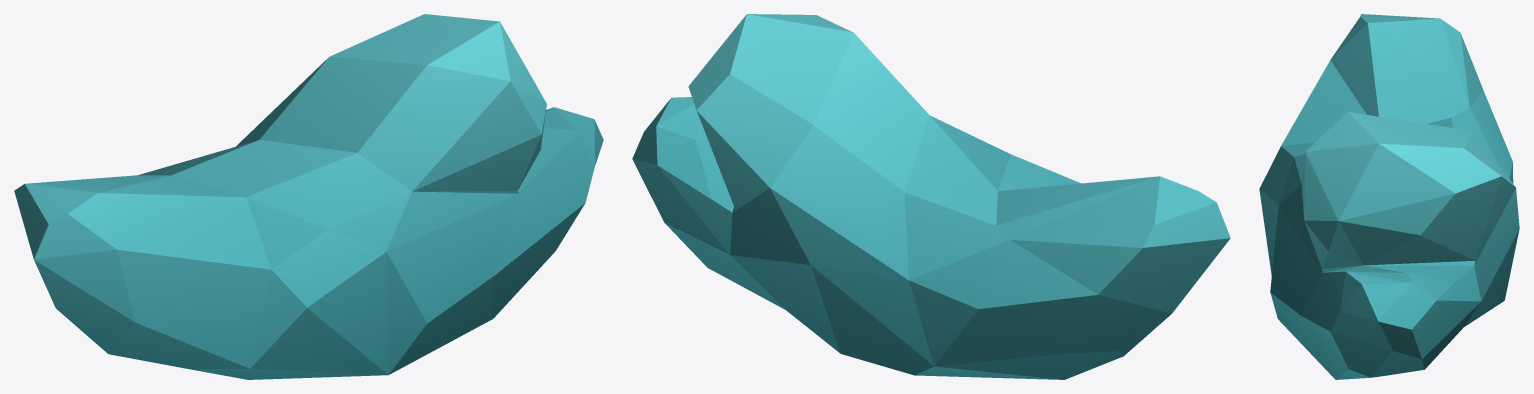
The model's file is bush_crescent_blue.fbx.
The picture shows the model from 3 angles, left to right: view 1: azimuth 30°, elevation 25°; view 2: azimuth 150°, elevation 25°; view 3: azimuth 270°, elevation 25°; orthographic projection. The views are drawn at different scales.
Parts seen in each view (by area): view 1: bush_crescent_blue; view 2: bush_crescent_blue; view 3: bush_crescent_blue.
Boxes of the visible parts, bbox=[...] form: bush_crescent_blue: bbox=[14, 14, 603, 379]; bush_crescent_blue: bbox=[632, 14, 1230, 379]; bush_crescent_blue: bbox=[1259, 14, 1519, 379].
Bounding box in the file's own units: 4 × 1.8 × 1.7.
Materials: 1 (1 with a texture image).
